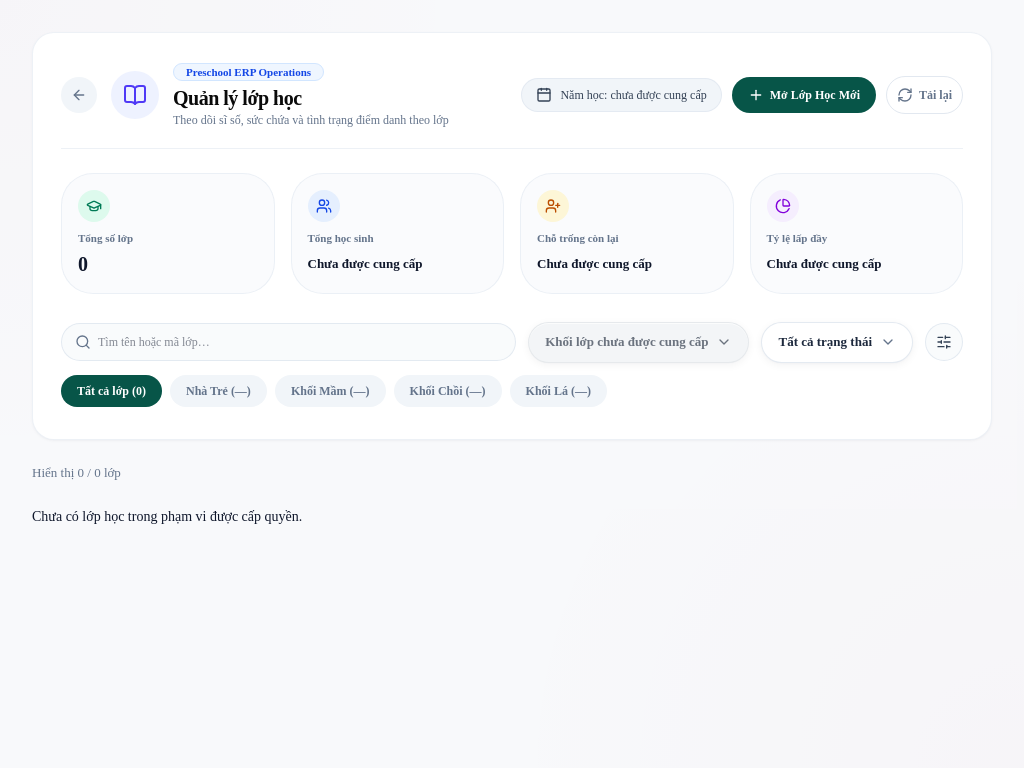
Scenario: hides the previous tenant creation identity after a catalog scope change
This screenshot has width=1024, height=768.
Expected: the text "Chưa có lớp học trong phạm vi được cấp quyền." is shown, x1=32 y1=509 x2=302 y2=524
Step 1. Click the button "Mở Lớp Học Mới" → (804, 94), box x1=732 y1=76 x2=876 y2=112
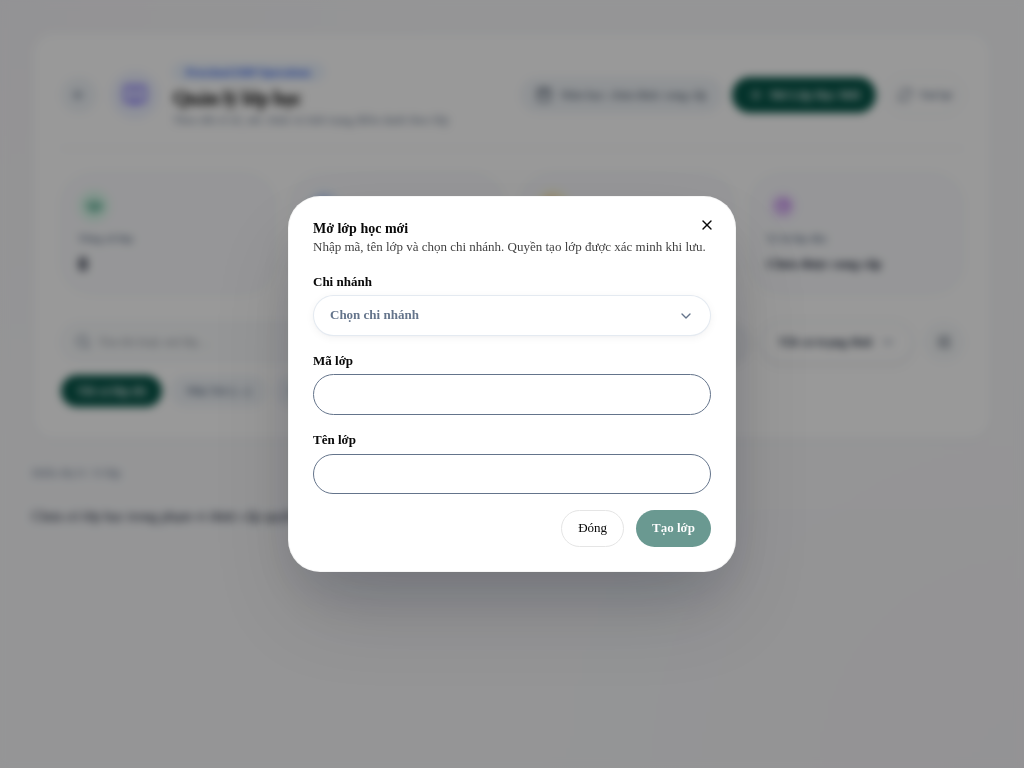
Step 2. Select "Synthetic branch" in the dropdown labelled "Chi nhánh" → (512, 304), box x1=313 y1=273 x2=711 y2=336
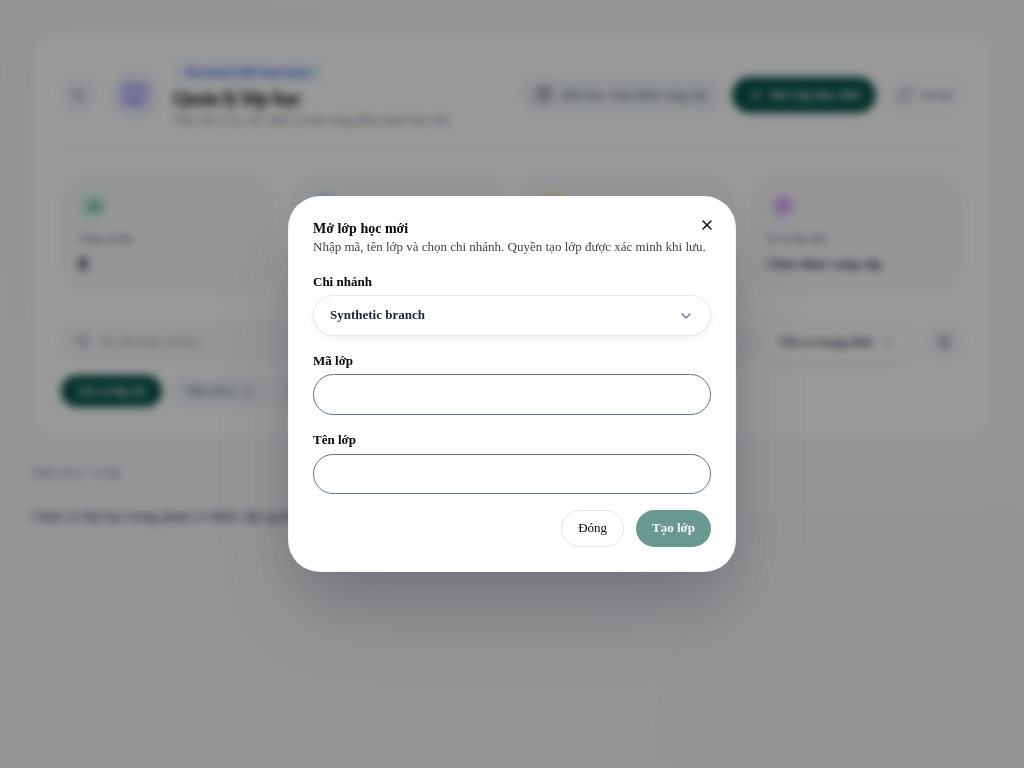
Step 3. Type " syn-01 " into the field labelled "Mã lớp" → (512, 395), box x1=313 y1=374 x2=711 y2=415
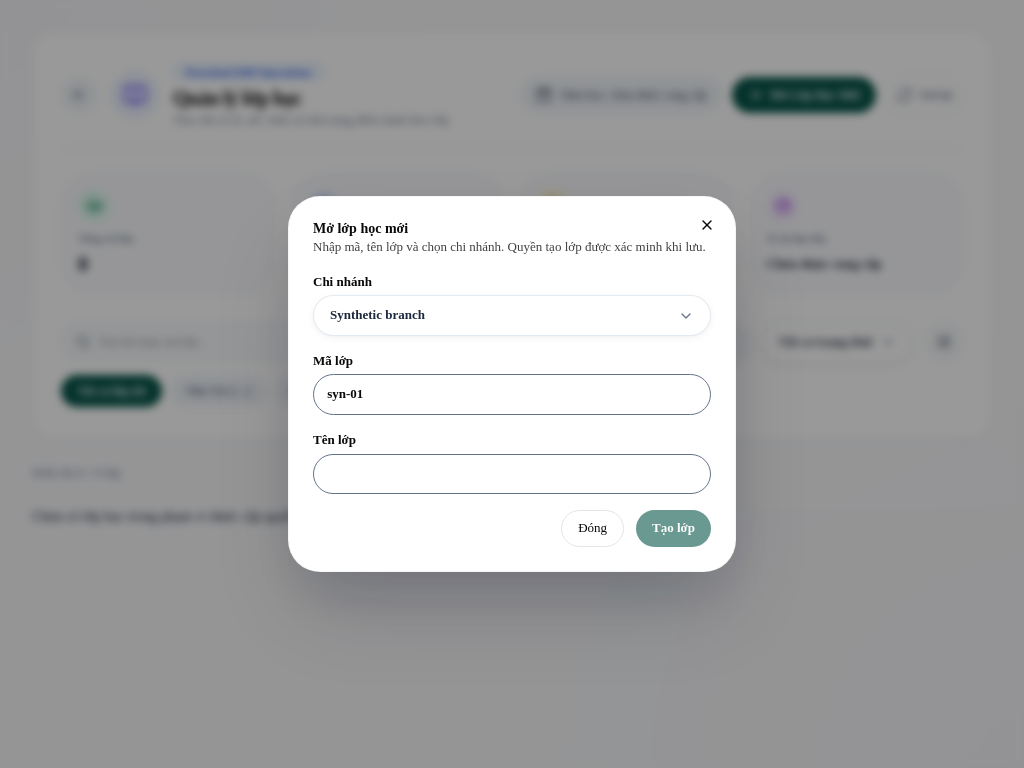
Step 4. Type " Synthetic class " into the field labelled "Tên lớp" → (512, 474), box x1=313 y1=454 x2=711 y2=494
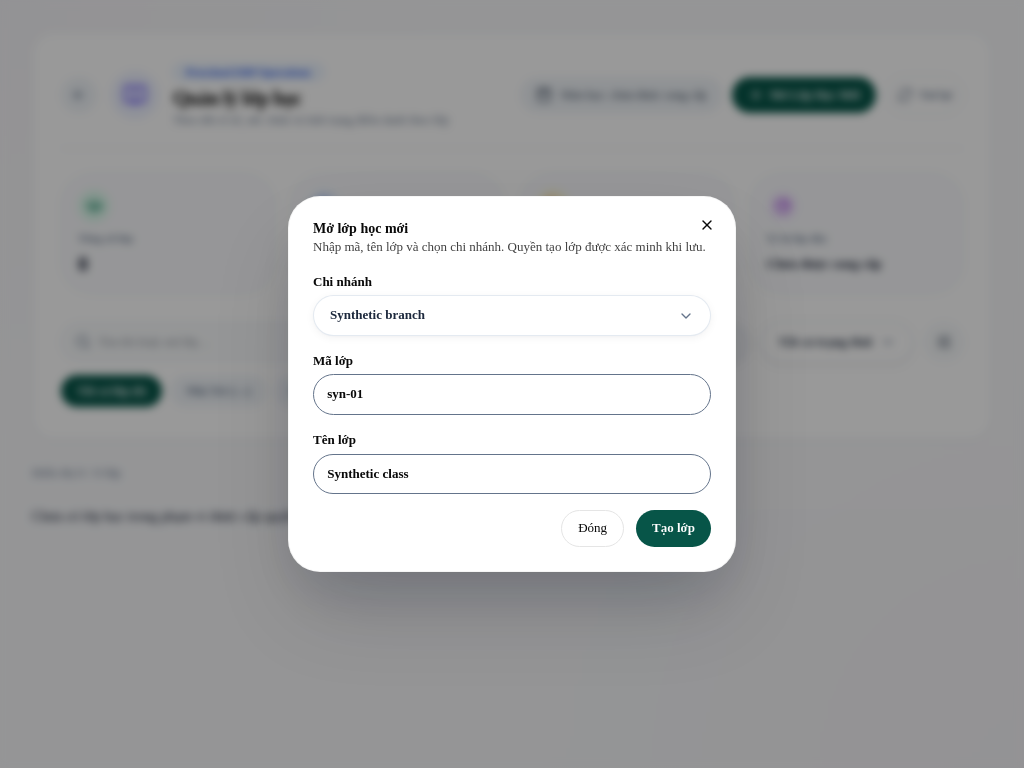
Step 5. Click the button "Tạo lớp" → (674, 528), box x1=636 y1=510 x2=711 y2=547
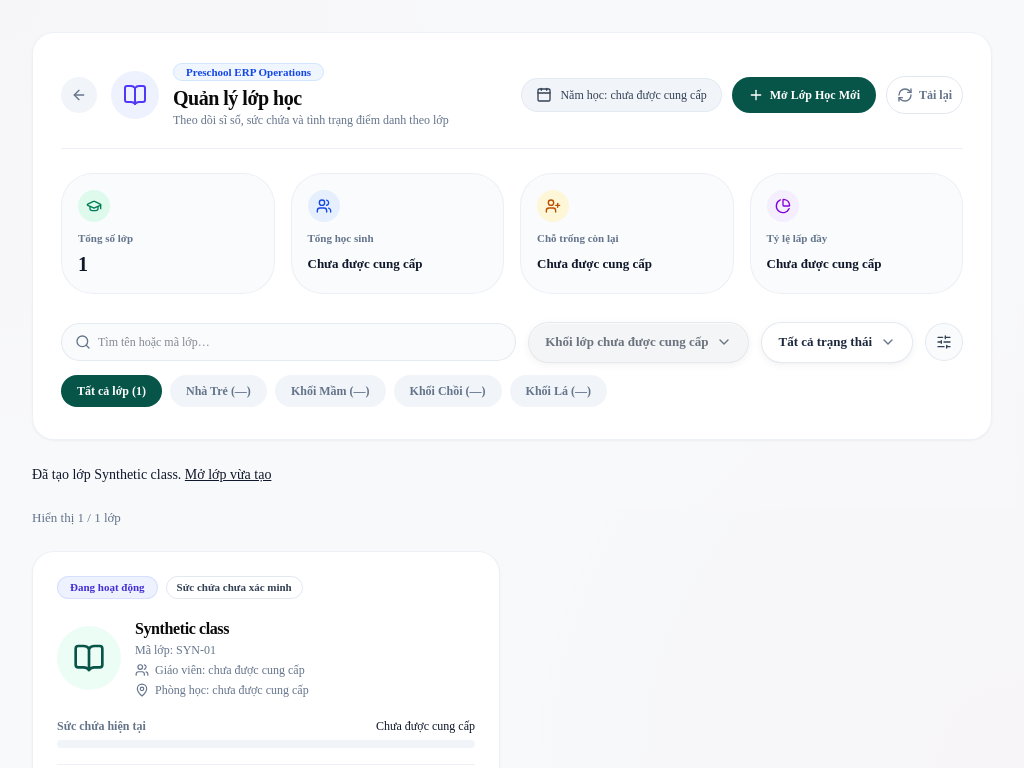
Result: the link "Mở lớp vừa tạo" is shown at x1=185 y1=467 x2=271 y2=482
Step 6. Click the button "Tải lại" → (924, 94), box x1=886 y1=76 x2=963 y2=114
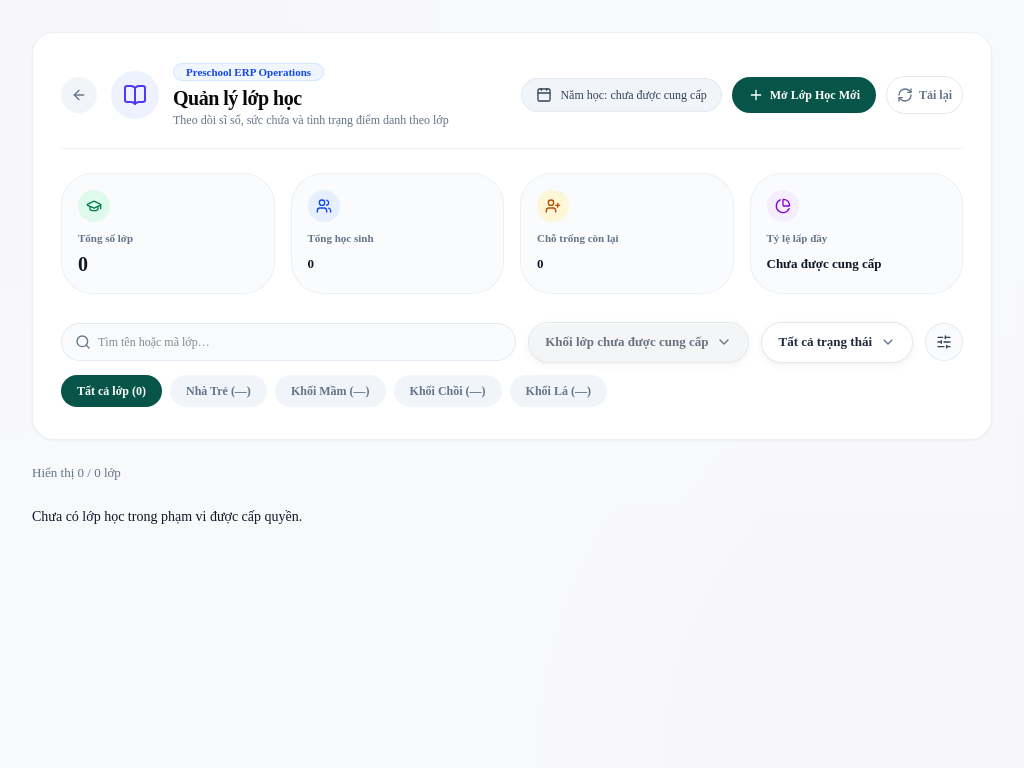
Result: the text "Chưa có lớp học trong phạm vi được cấp quyền." is shown at x1=32 y1=509 x2=302 y2=524
Result: the link "Mở lớp vừa tạo" is gone
Result: the text "Đã tạo lớp Synthetic class" is gone
